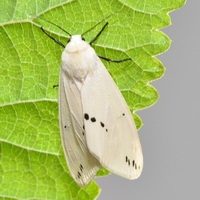insect: (59, 35, 142, 186)
